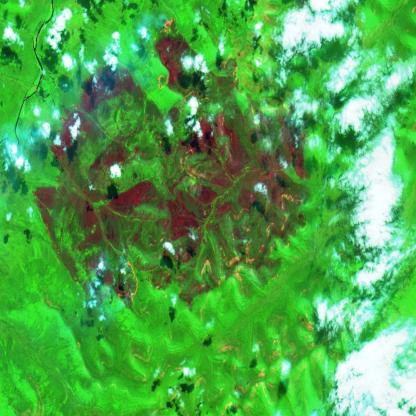fire: (152, 6, 251, 109), (113, 249, 145, 315)
